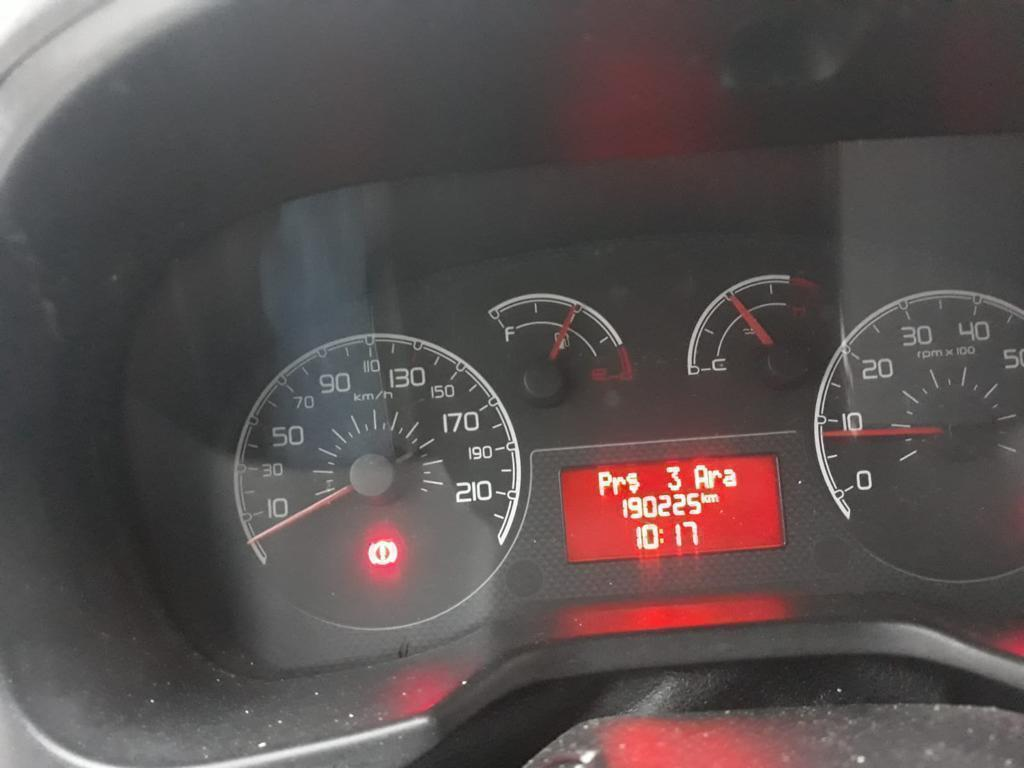0: (641, 522, 658, 549), (642, 494, 657, 518)
1: (634, 525, 642, 550), (620, 497, 628, 519), (674, 522, 681, 546)
2: (657, 493, 672, 517), (672, 492, 686, 516)
3: (665, 464, 683, 491)
5: (687, 491, 701, 515)
7: (682, 520, 699, 546)
9: (627, 496, 642, 519)
X: (692, 463, 708, 489), (597, 470, 612, 496), (626, 470, 641, 494), (612, 475, 626, 496), (723, 467, 737, 487), (708, 469, 722, 488), (658, 526, 665, 544), (708, 492, 719, 503), (701, 491, 708, 503)
odometer: (556, 452, 787, 564)
